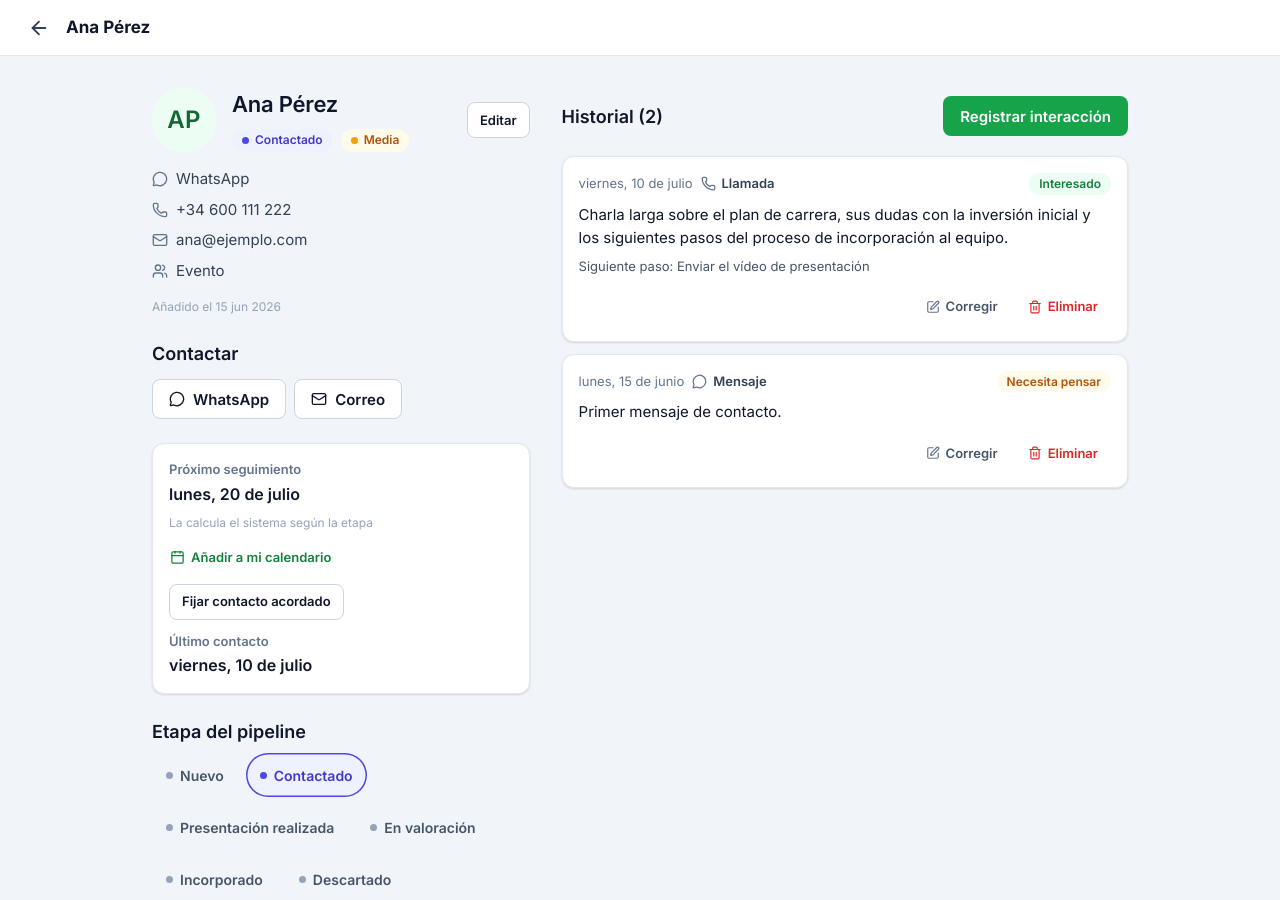
it: edición de datos (JOS-18, bocado 3) › editar → elegir Alta → guardar: cablea prioridad con la mutation, toast y vuelta a lectura (JOS-52)
Click the button "Editar". click: (498, 120)
box: [467, 102, 530, 138]
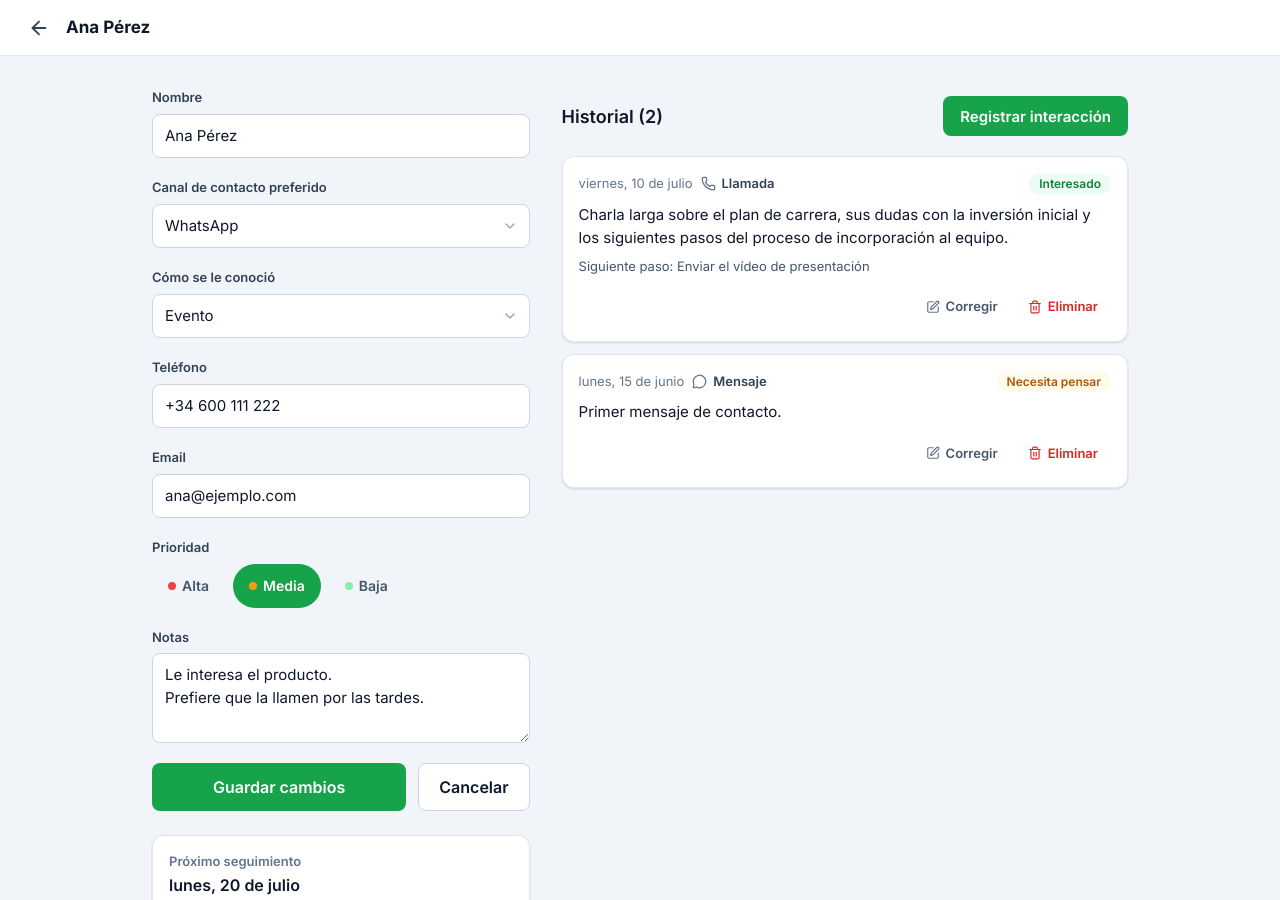
// "Alta" es exclusivo del selector de prioridad (las etapas no lo usan).
Click the radio button labelled "Alta". click: (189, 586)
box: [152, 564, 225, 608]
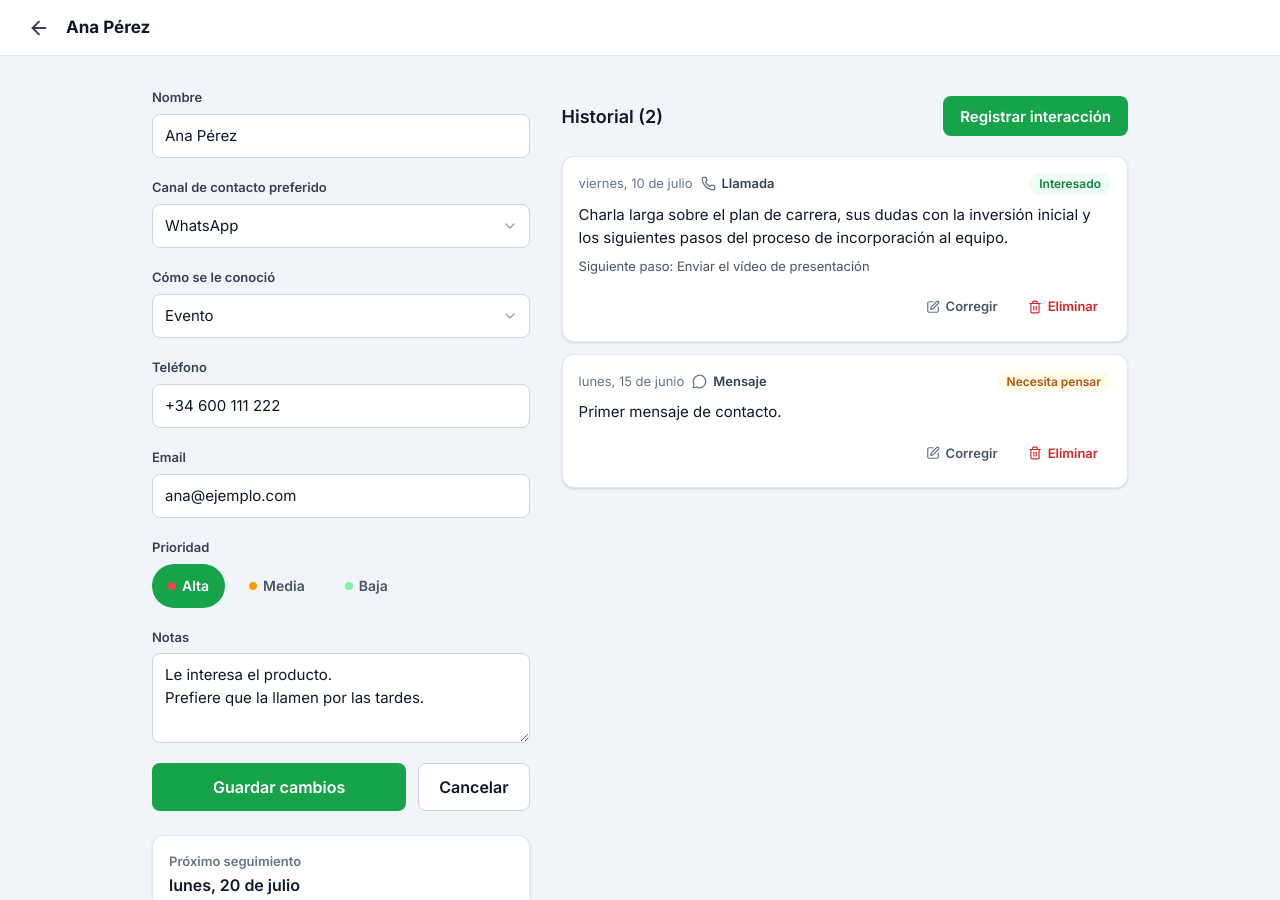
Click the button "Guardar cambios". click: (279, 786)
box: [152, 762, 406, 810]
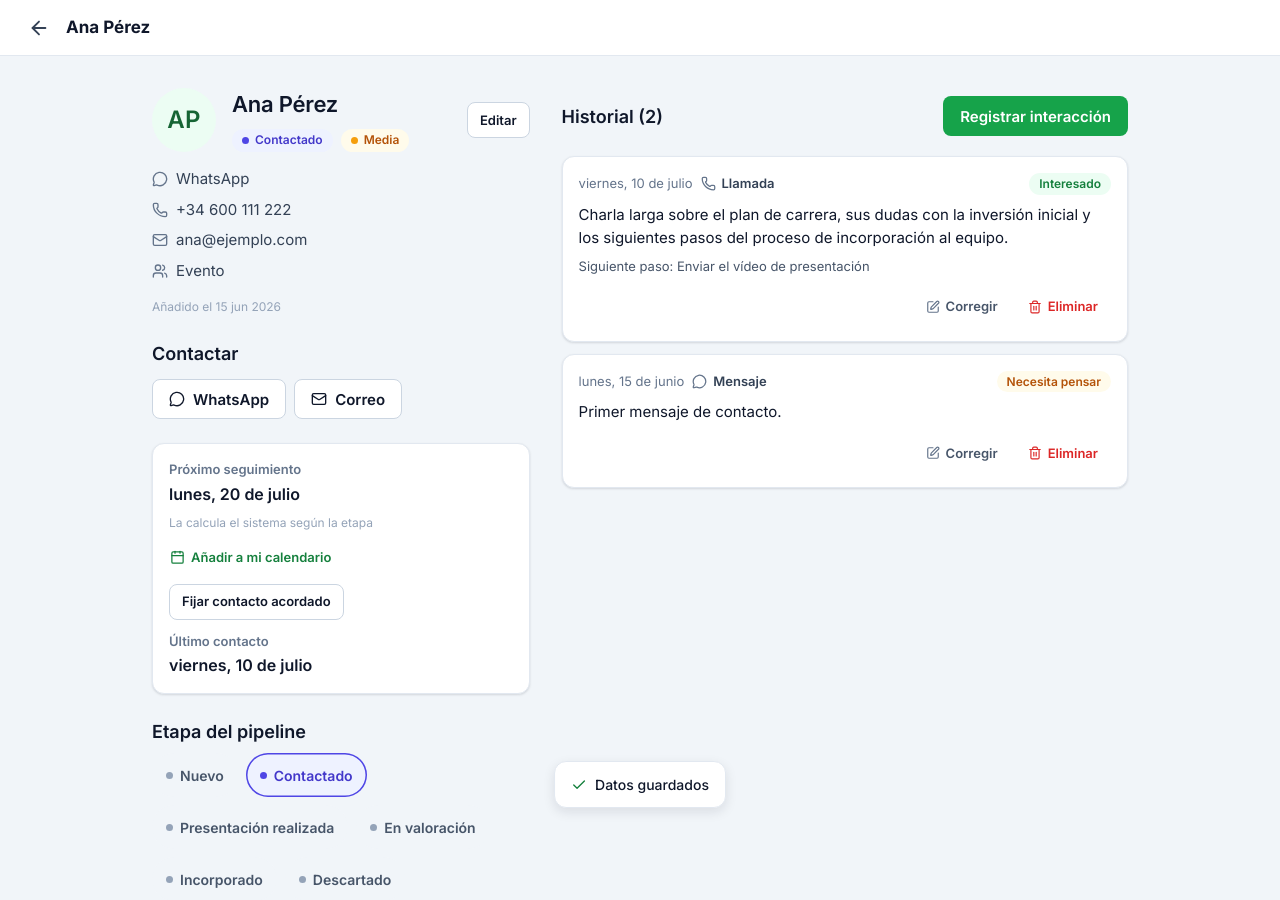
expect the element named "Datos del prospecto" is shown: met, box [152, 88, 530, 316]
